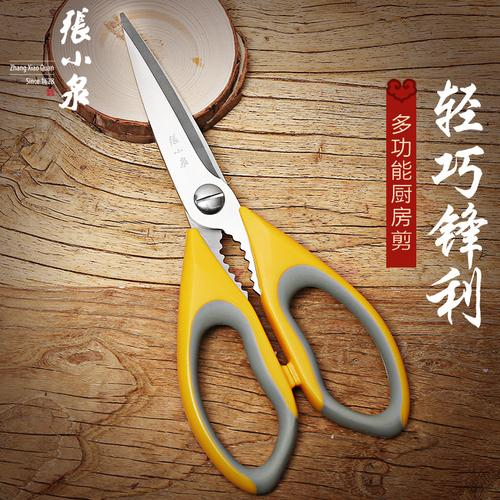scissor: (119, 13, 411, 487)
